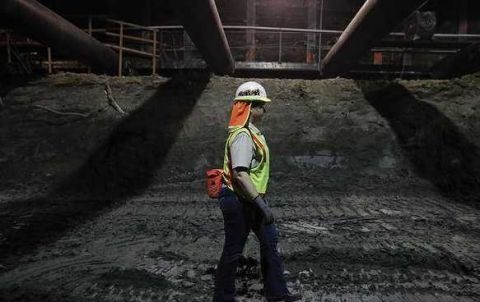white: (230, 80, 272, 125)
